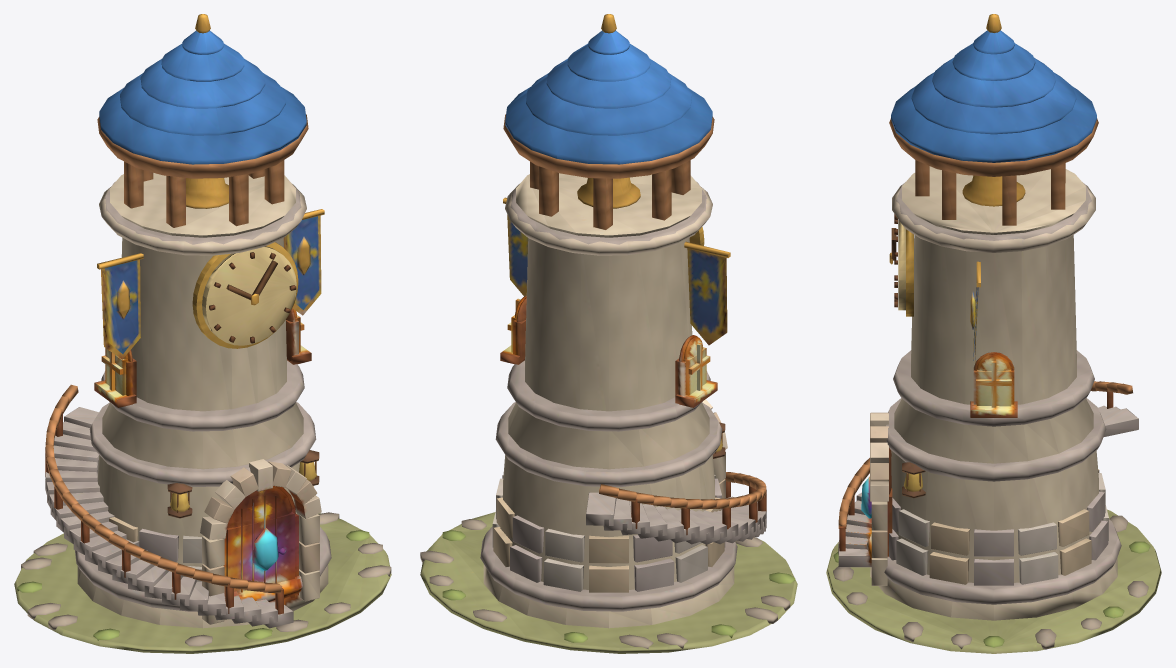
File: bld_quest_tower.glb
3 renders of one model, left to right at view 1: azimuth 30°, elevation 25°; view 2: azimuth 150°, elevation 25°; view 3: azimuth 270°, elevation 25°, orthographic.
Parts seen in each view (by area): view 1: Body; view 2: Body; view 3: Body.
Boxes of the visible parts, x1,y1,x2,y2 form: Body: (14,14,391,653); Body: (420,14,797,653); Body: (826,14,1161,653).
Size of the model in its own units: 4.05 by 6.5 by 3.52.
Materials: 1 (1 with a texture image).
